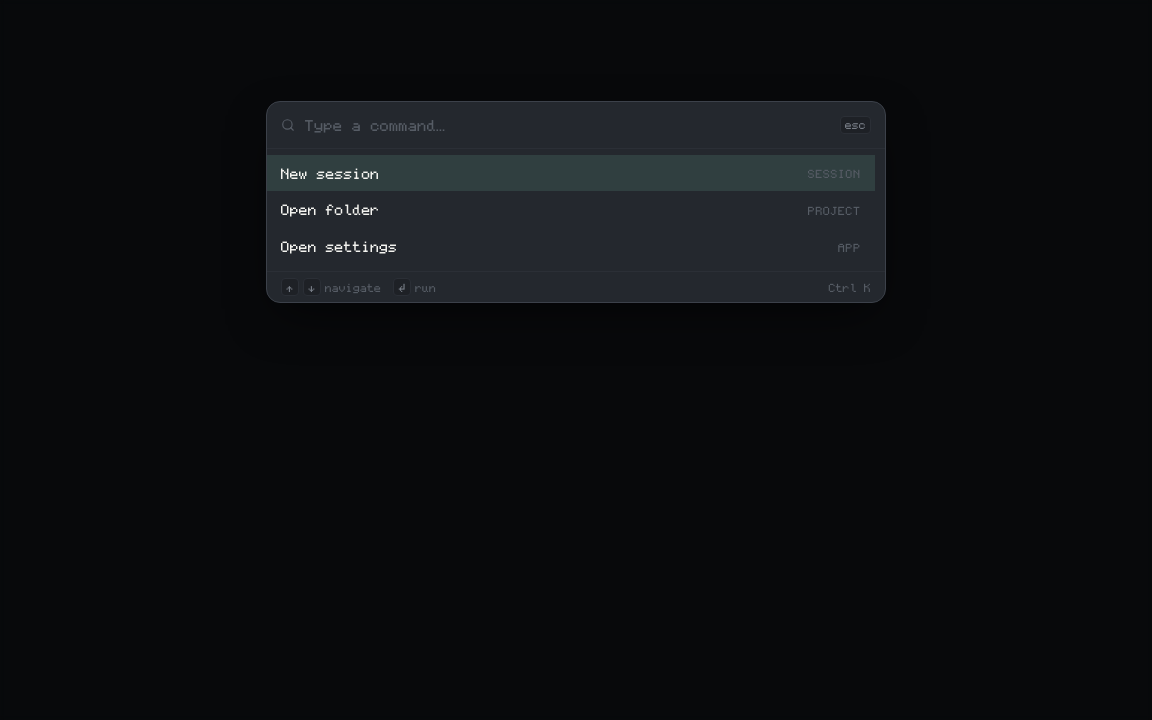
CommandPalette › filters as you type
In the field with placeholder "Type a command…": (567, 125) [305,114,830,136], type "folder"
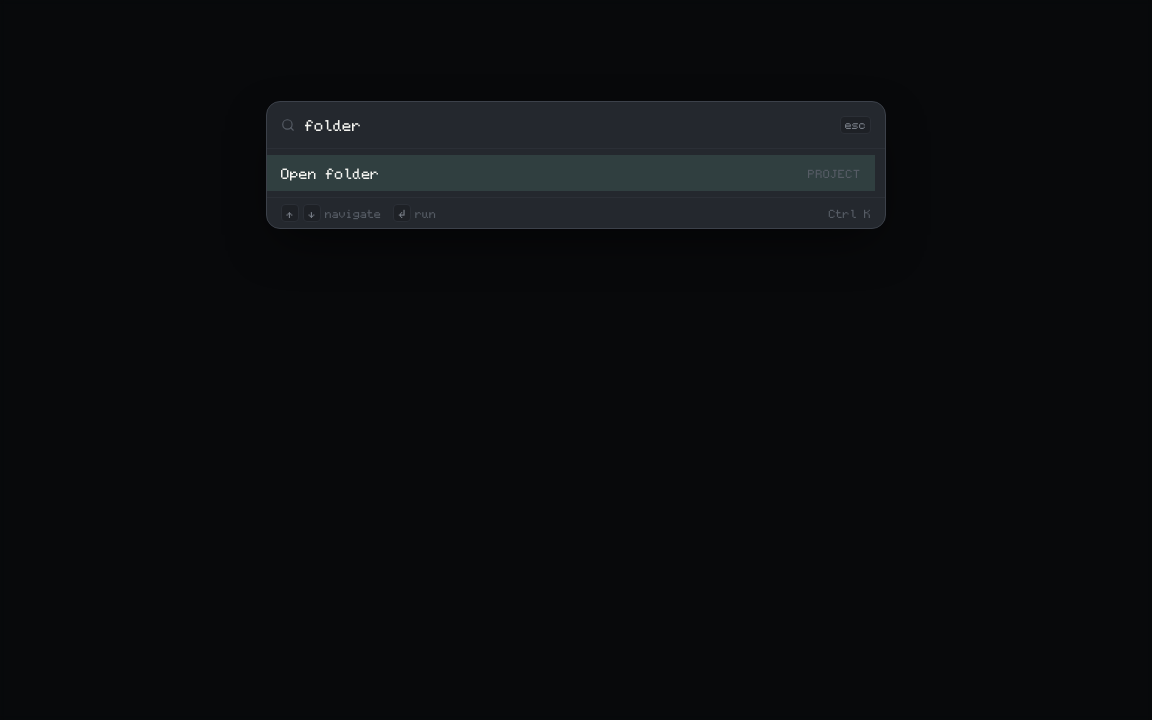
Expected: the text "Open folder" is shown, [281,164,380,182]
Expected: the button "New session" is gone
